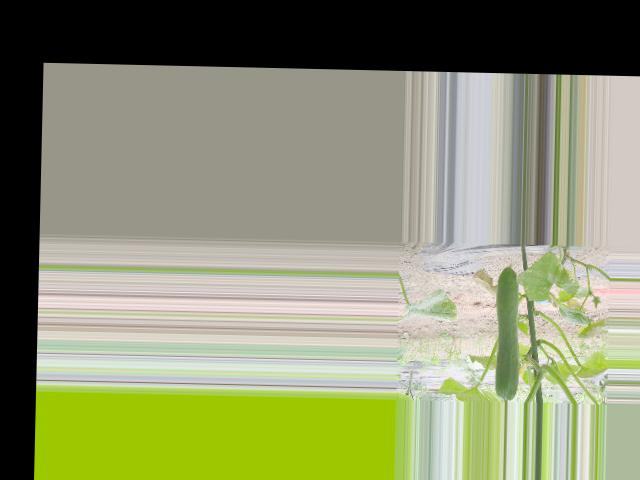cucumber: (493, 262, 521, 400)
